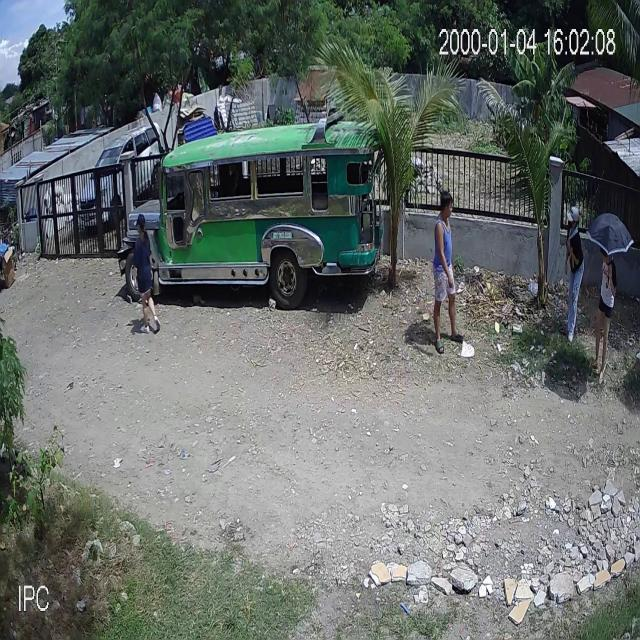standing: (554, 199, 586, 344), (588, 243, 616, 390)
walking: (428, 190, 466, 353), (134, 213, 162, 338)
